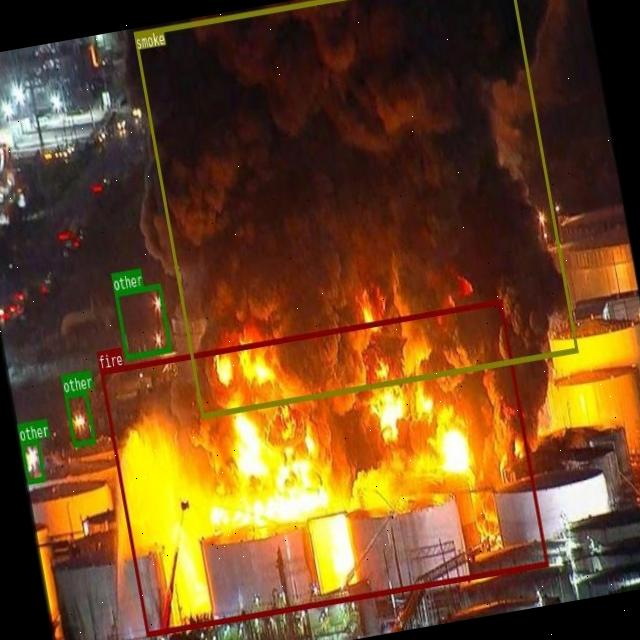fire: (99, 298, 548, 635)
smoke: (133, 0, 577, 417)
